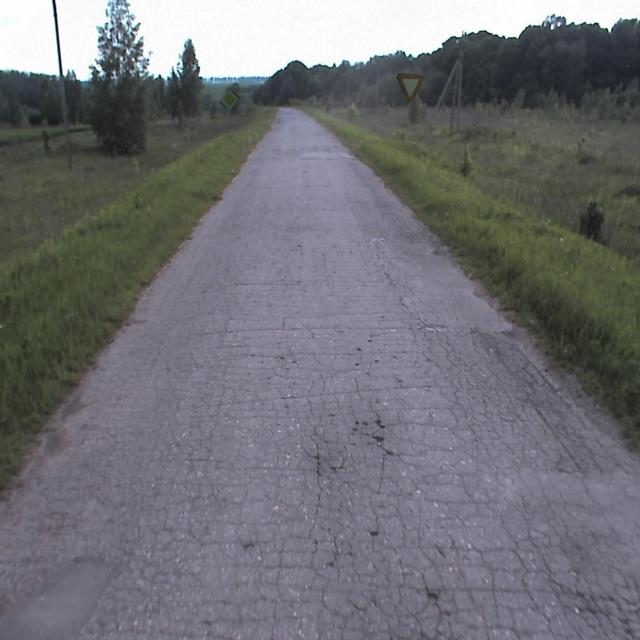road: (0, 111, 639, 639)
